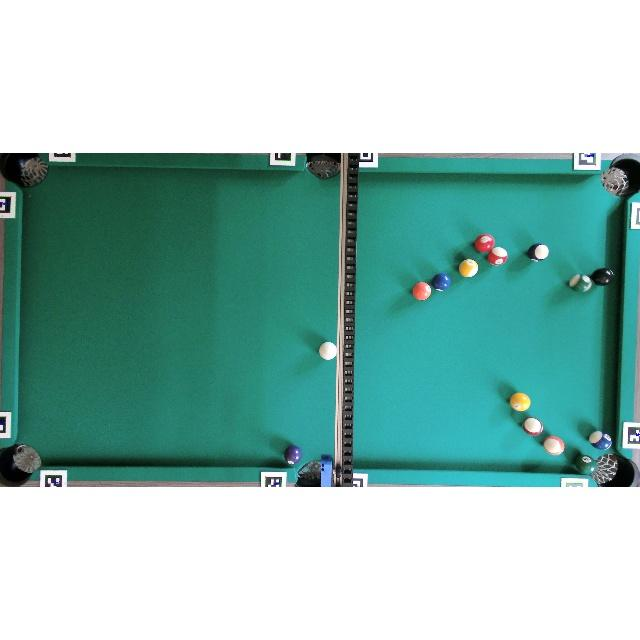cue ball: (318, 342, 338, 361)
other: (474, 233, 496, 253), (575, 454, 597, 474), (591, 268, 615, 286), (590, 431, 612, 450), (543, 436, 565, 455), (570, 274, 592, 293), (510, 392, 530, 412), (527, 243, 548, 262), (522, 417, 543, 436), (488, 247, 508, 266), (284, 444, 302, 465), (459, 259, 478, 278), (412, 282, 432, 300), (432, 273, 451, 291)
